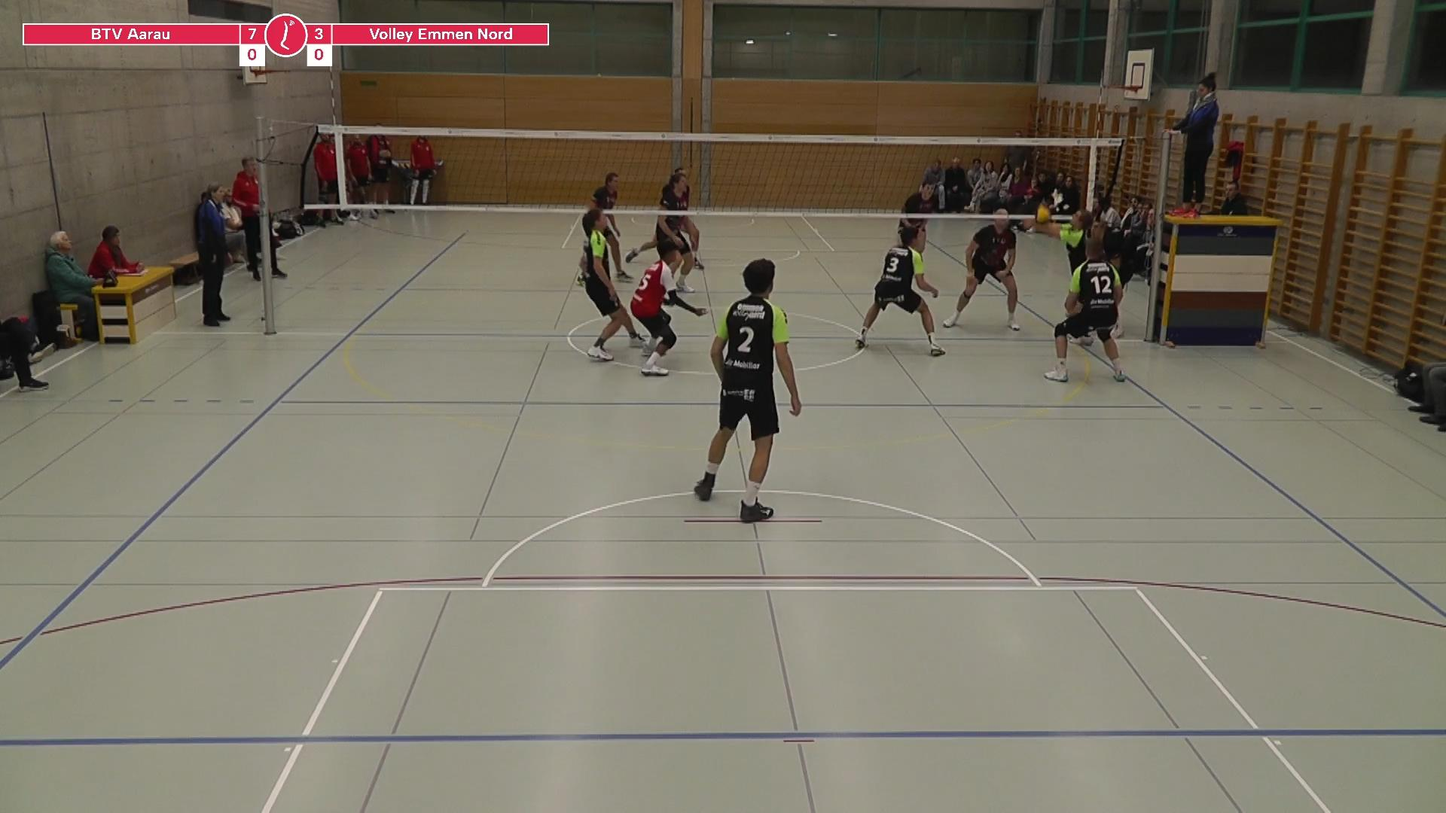difesa: (1021, 203, 1110, 280)
